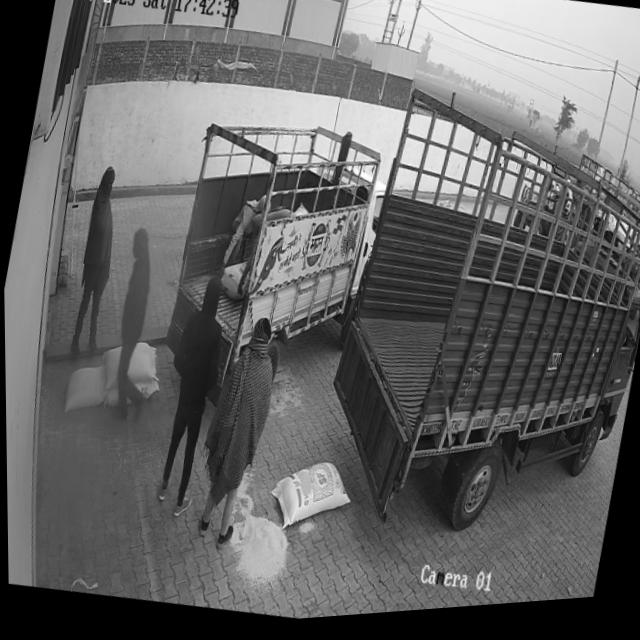sack: (263, 455, 355, 543), (96, 336, 160, 398), (60, 360, 110, 420)
